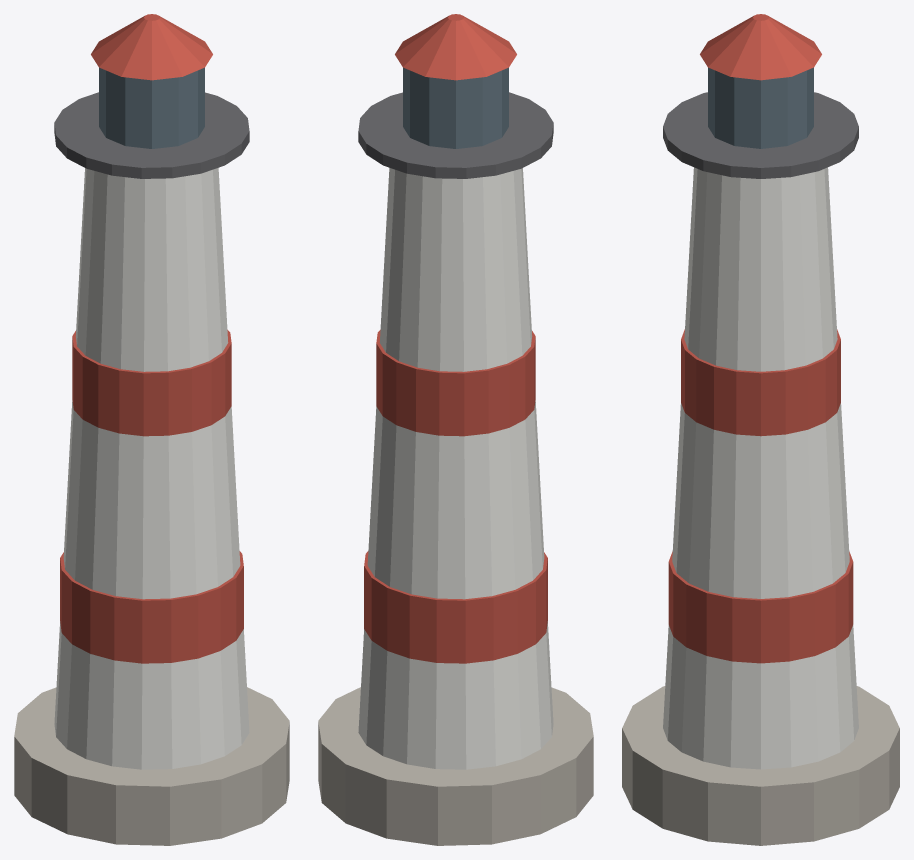
Rendered from Lighthouse.glb.
3 views of the same model, side by side, from view 1: azimuth 30°, elevation 25°; view 2: azimuth 150°, elevation 25°; view 3: azimuth 270°, elevation 25° (orthographic).
Visible parts, largest first — view 1: Tower, Plinth, Red band, Red band.001, Gallery, Lantern, Lantern roof; view 2: Tower, Plinth, Red band, Red band.001, Gallery, Lantern, Lantern roof; view 3: Tower, Plinth, Red band, Red band.001, Gallery, Lantern, Lantern roof.
Part boxes in pixels (box(x1,y1,x2,y2)): Tower: box(54, 168, 249, 769); Plinth: box(14, 687, 289, 845); Red band: box(60, 551, 243, 663); Red band.001: box(72, 329, 231, 436); Gallery: box(54, 92, 249, 178); Lantern: box(99, 67, 204, 148); Lantern roof: box(91, 14, 212, 80); Tower: box(358, 168, 553, 769); Plinth: box(318, 687, 593, 845); Red band: box(364, 551, 547, 663); Red band.001: box(376, 329, 535, 436); Gallery: box(358, 92, 553, 178); Lantern: box(403, 67, 508, 148); Lantern roof: box(395, 14, 516, 80); Tower: box(663, 167, 858, 769); Plinth: box(622, 686, 899, 845); Red band: box(668, 551, 853, 663); Red band.001: box(681, 329, 840, 436); Gallery: box(663, 92, 858, 178); Lantern: box(708, 67, 813, 148); Lantern roof: box(700, 14, 821, 80).
Bounding box in the file's own units: 6.8 × 20.8 × 6.8.
